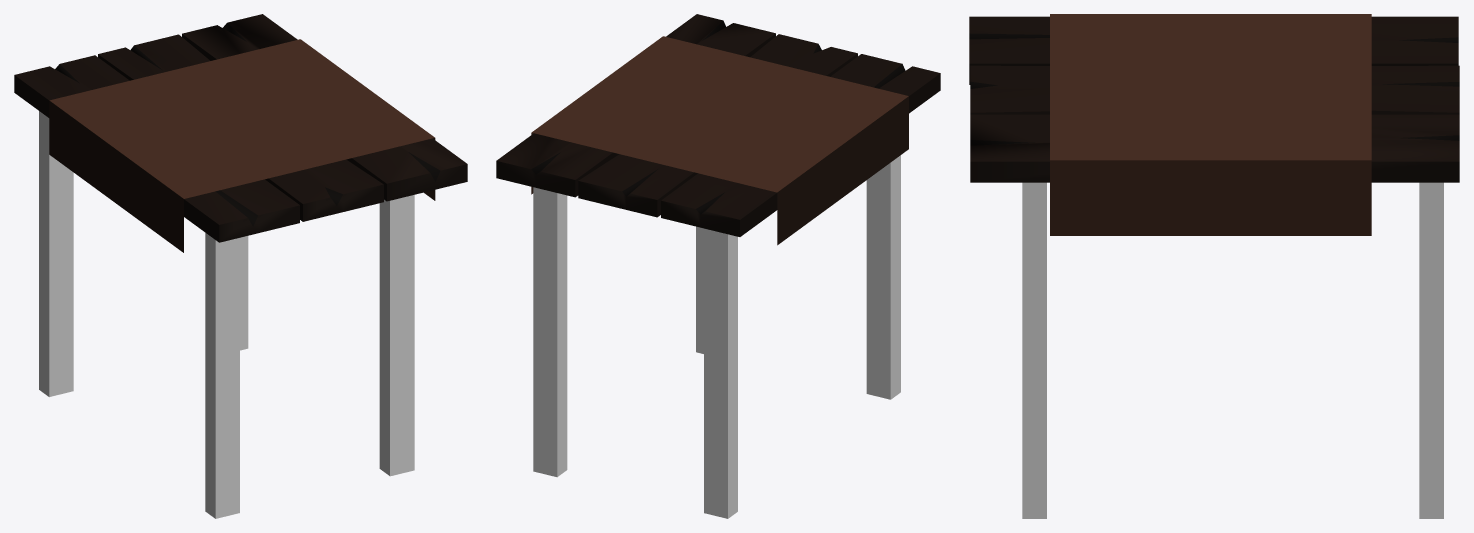
Rendered from table01.fbx.
3 renders of one model, left to right at view 1: azimuth 30°, elevation 25°; view 2: azimuth 150°, elevation 25°; view 3: azimuth 270°, elevation 25°, orthographic. The views are drawn at different scales.
Visible parts, largest first — view 1: pPlane1, pCube16, pCube17, pCube18, pCube13, pCube15, pCube14, pCube19; view 2: pPlane1, pCube19, pCube18, pCube17, pCube13, pCube15, pCube14, pCube16; view 3: pPlane1, pCube15, pCube13, pCube16, pCube19, pCube14.
Boxes of the visible parts, x1,y1,x2,y2 form: pPlane1: (49,39,435,252); pCube16: (379,195,414,476); pCube17: (205,233,239,518); pCube18: (39,111,73,396); pCube13: (14,55,299,242); pCube15: (182,14,467,201); pCube14: (98,34,383,221); pCube19: (240,236,248,350); pPlane1: (531,36,908,245); pCube19: (533,187,567,477); pCube18: (704,228,737,518); pCube17: (866,155,900,399); pCube13: (661,54,940,236); pCube15: (496,14,775,197); pCube14: (578,34,857,217); pCube16: (696,226,703,353); pPlane1: (1050,14,1371,235); pCube15: (970,114,1459,182); pCube13: (969,16,1458,84); pCube16: (1022,182,1046,518); pCube19: (1419,182,1443,518); pCube14: (970,65,1459,114).
Size of the model in its own units: 4.64 by 5.58 by 6.57.
